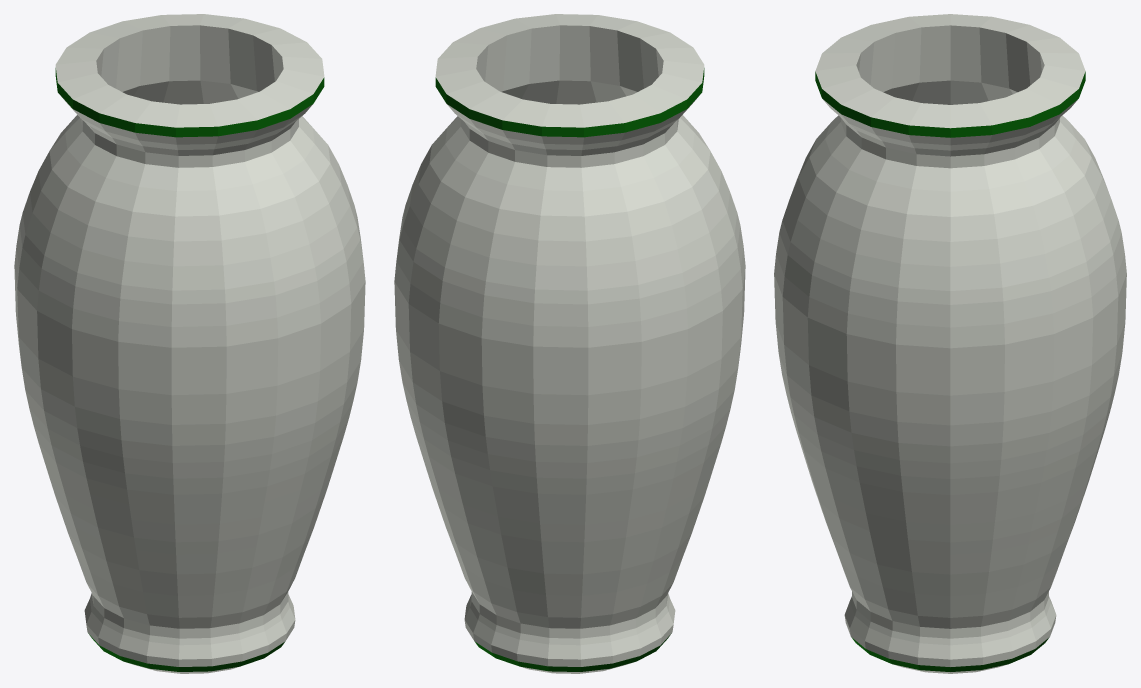
Rendered from Vase.fbx.
The picture shows the model from 3 angles, left to right: view 1: azimuth 30°, elevation 25°; view 2: azimuth 150°, elevation 25°; view 3: azimuth 270°, elevation 25°; orthographic projection.
Visible parts, largest first — view 1: Cylinder.001; view 2: Cylinder.001; view 3: Cylinder.001.
Boxes of the visible parts, left/top/right/bottom form: Cylinder.001: left=14, top=14, right=365, bottom=673; Cylinder.001: left=394, top=14, right=745, bottom=673; Cylinder.001: left=774, top=14, right=1126, bottom=673.
Bounding box in the file's own units: 266 × 477 × 266.
